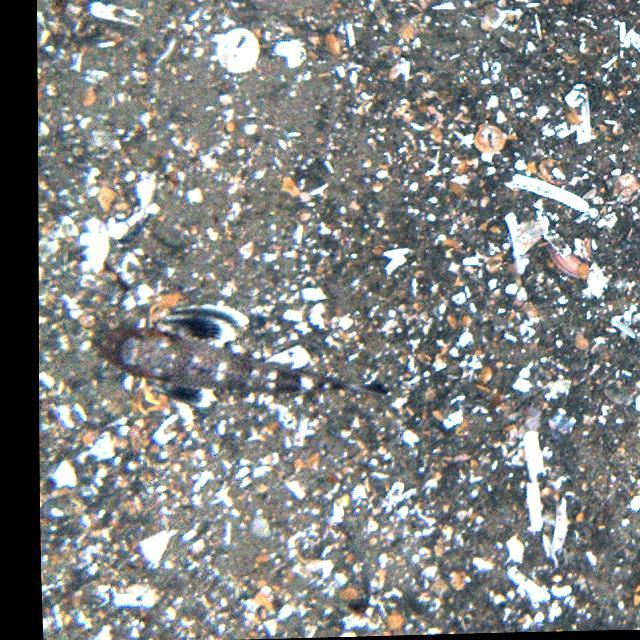roundfish: (105, 299, 395, 415)
